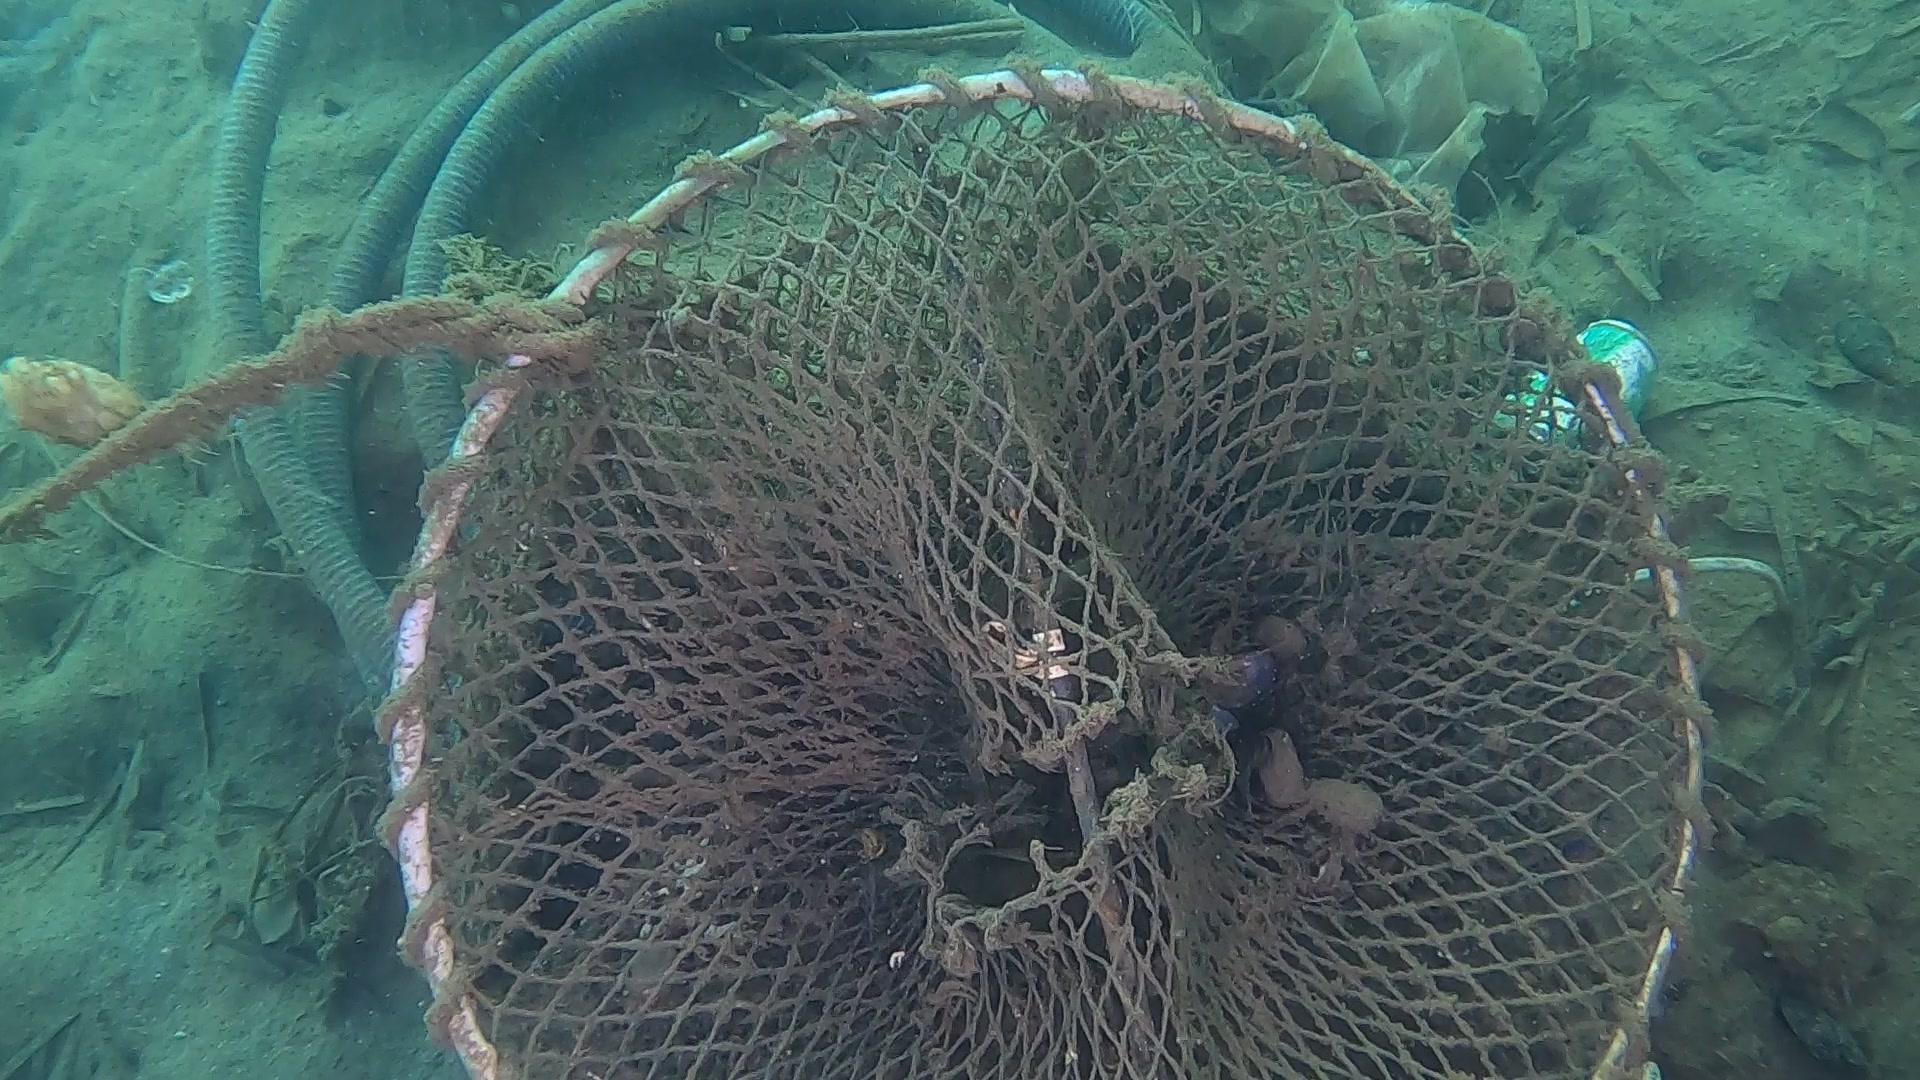bundle of ropes: (0, 274, 592, 535)
circular fish trap: (376, 65, 1702, 1080)
